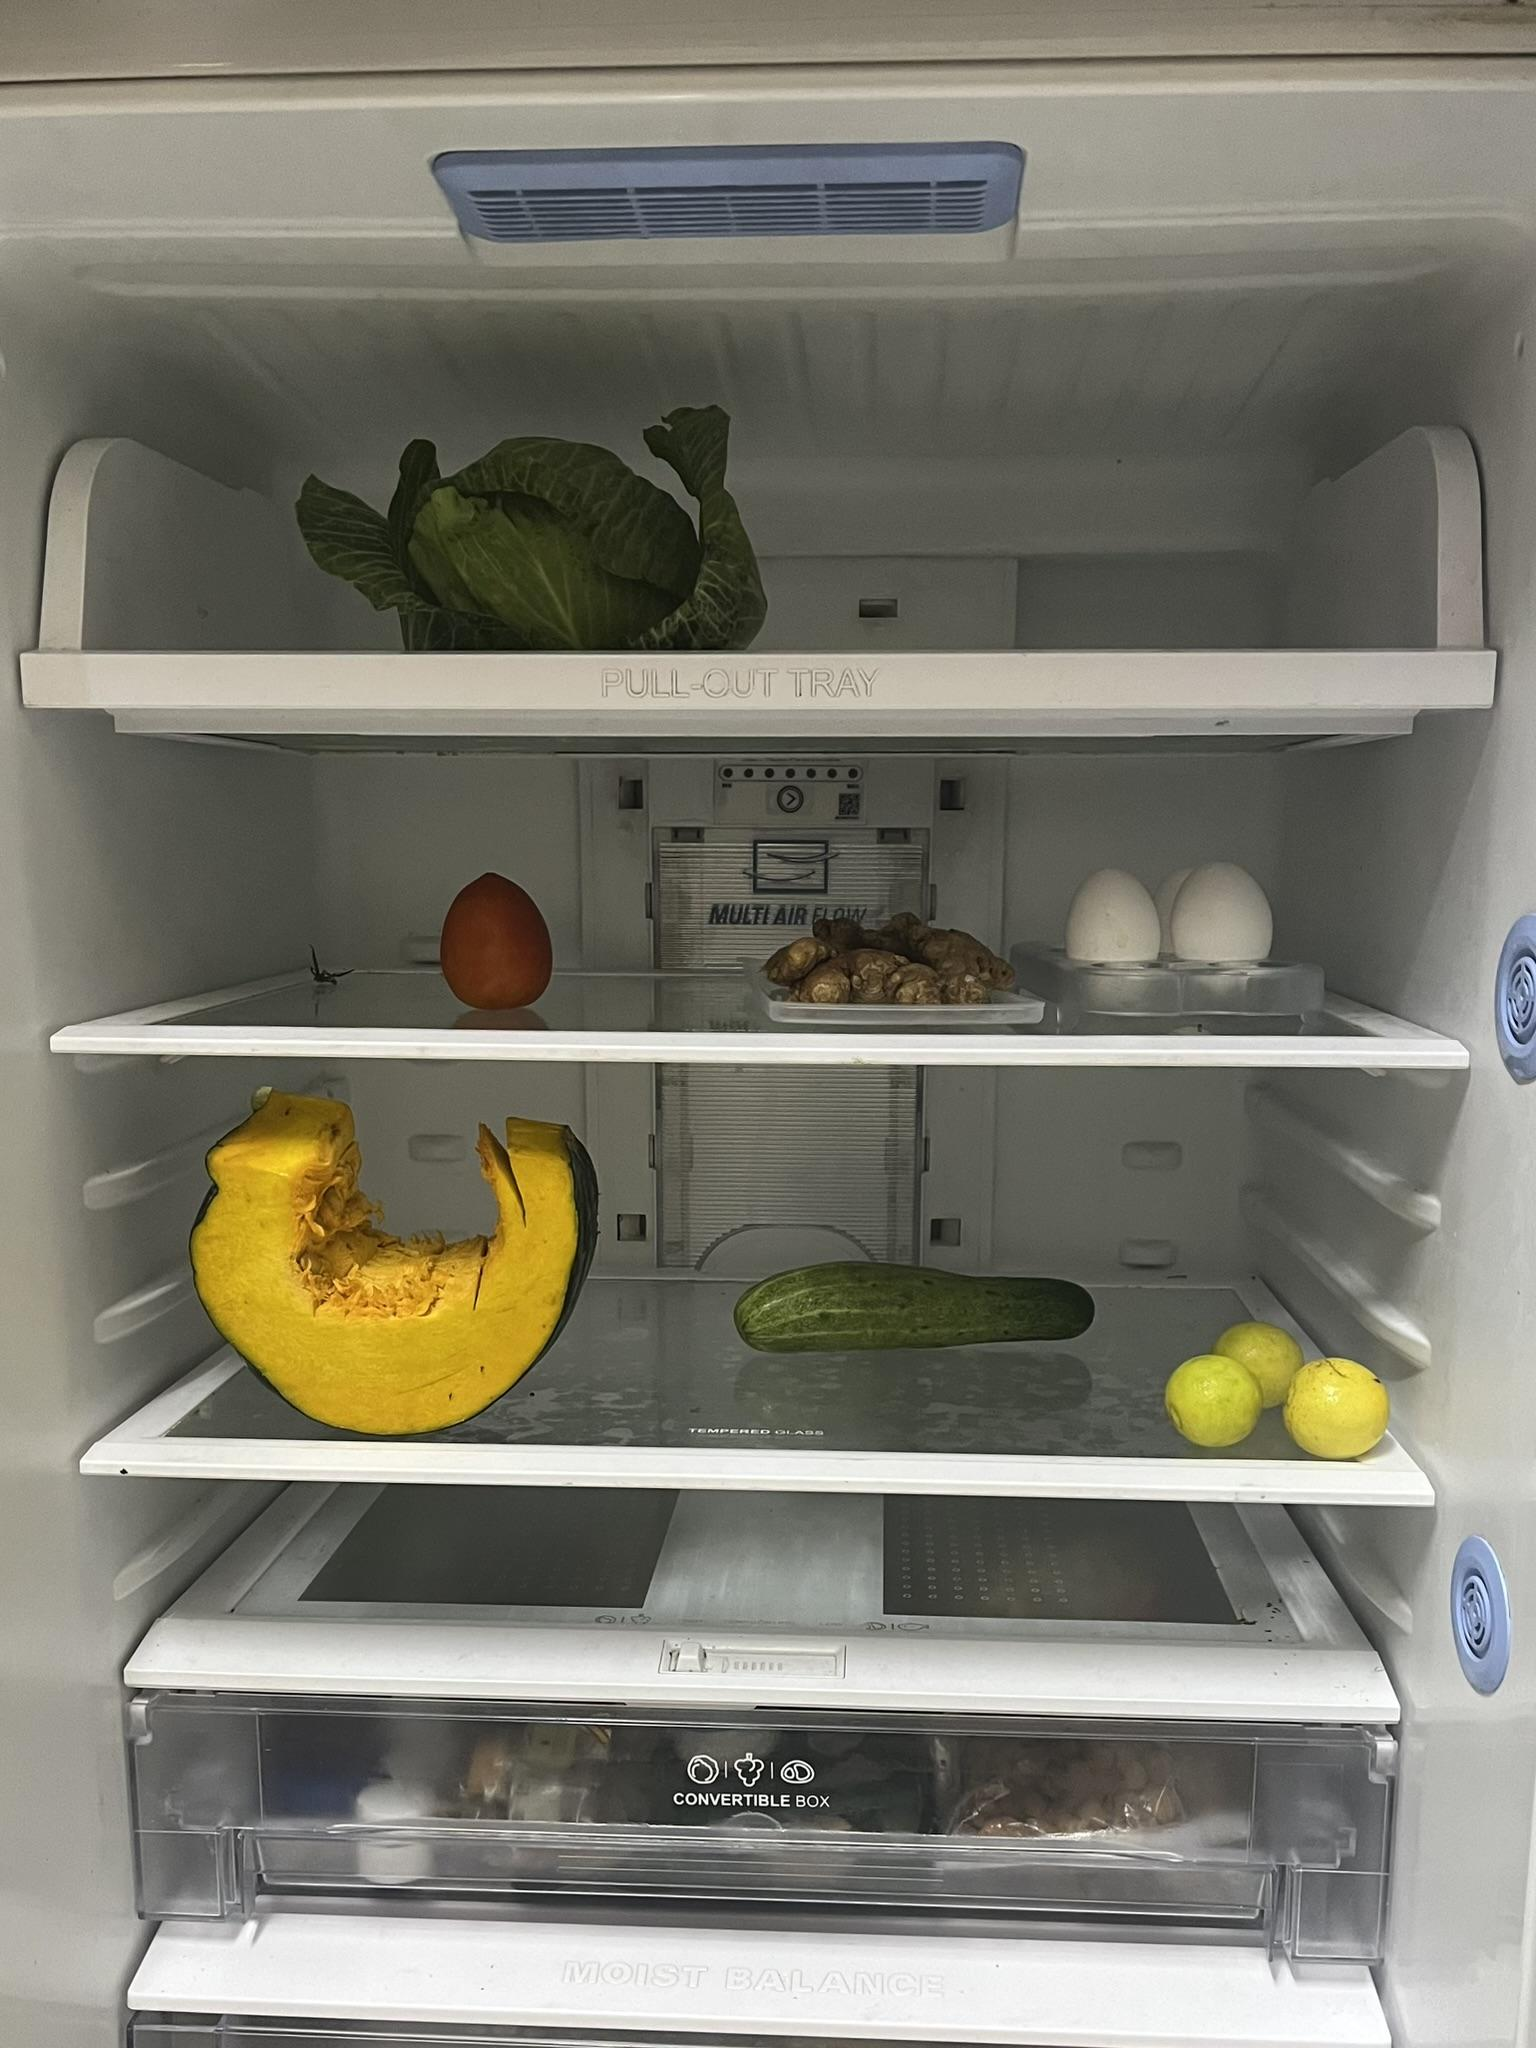cabbage: (297, 427, 779, 643)
cucumber: (741, 1253, 1104, 1356)
egg: (1066, 853, 1283, 990)
ginger: (760, 916, 1033, 1006)
lemon: (1173, 1316, 1386, 1463)
pumpkin: (187, 1097, 597, 1447)
tomato: (440, 866, 563, 1021)
